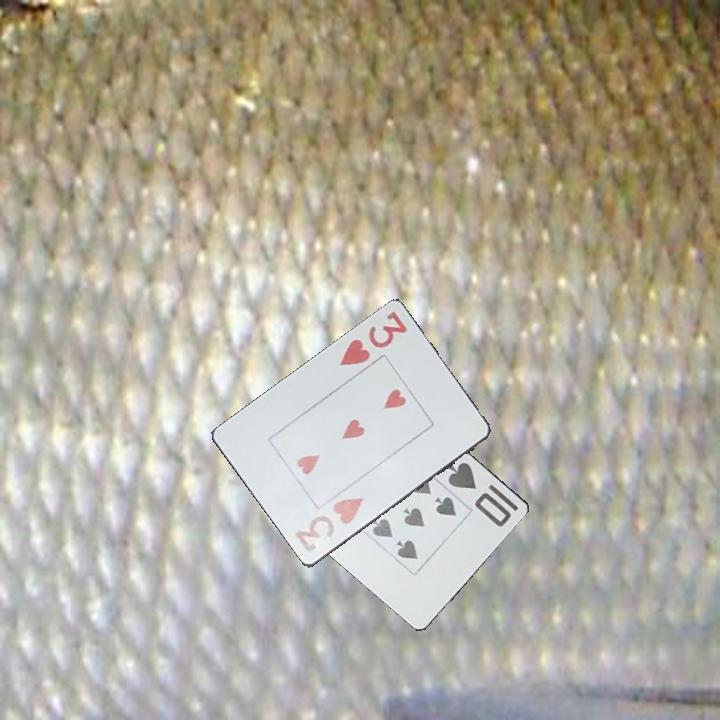3h: (291, 494, 366, 557), (336, 307, 410, 369)
Ts: (442, 459, 521, 530)
